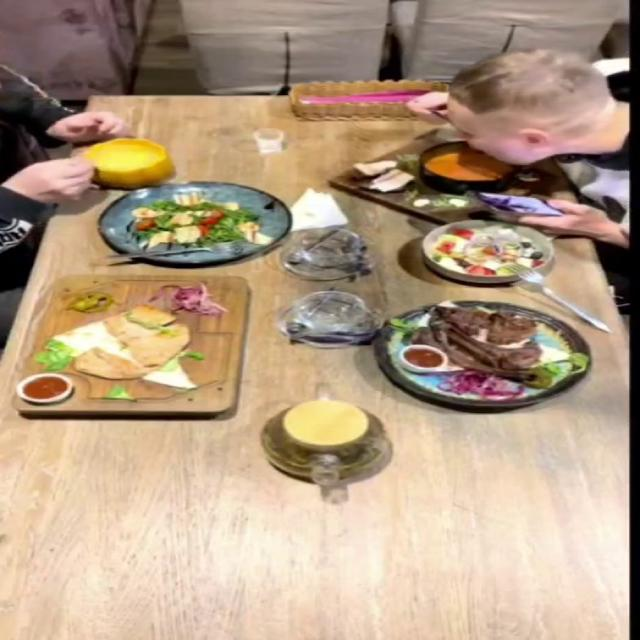alcohol: (252, 130, 294, 156)
meat: (371, 300, 594, 408)
salat: (96, 182, 290, 265), (421, 219, 556, 284)
soup: (326, 136, 575, 230), (80, 136, 174, 188)
tea: (283, 399, 369, 446)
